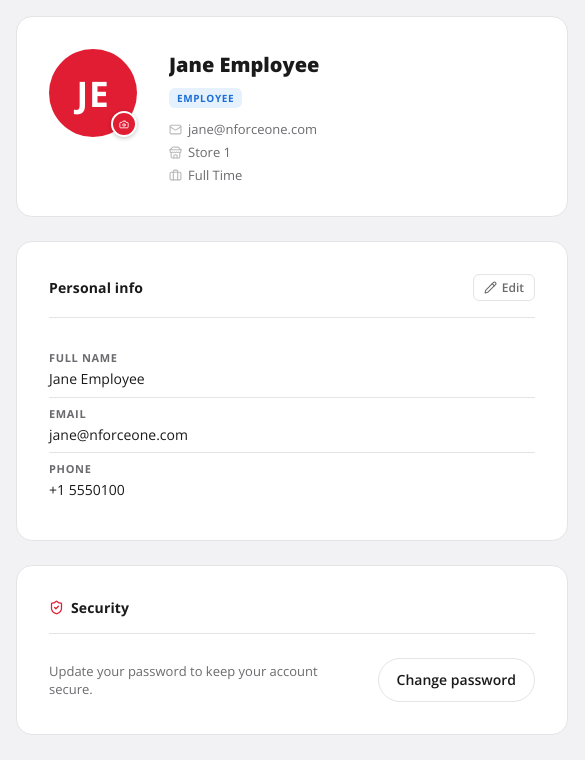
it: Profile personal info section › saves profile changes and reflects them in the overview on success
The image size is (585, 760).
expect the heading "Jane Employee" is shown: met, box [169,51,319,78]
Click the button with aria-label "edit personal info": [504, 288] box [473,274,535,301]
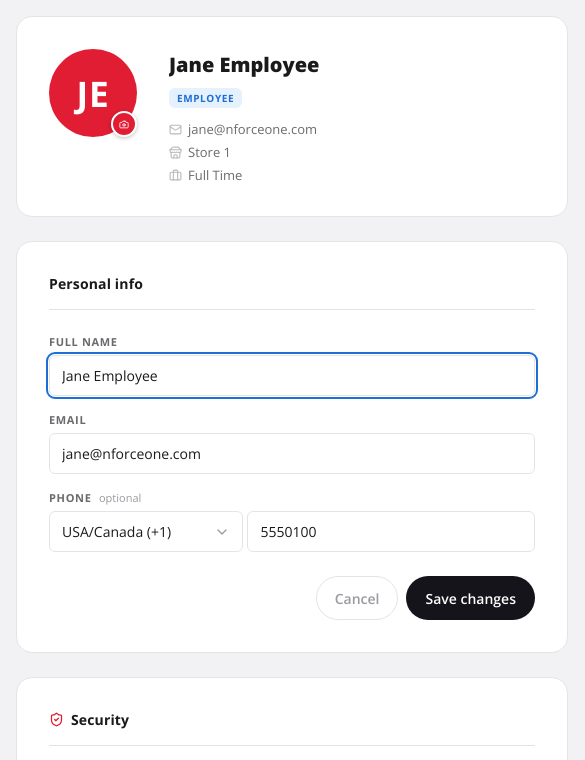
Replace the text in the field labelled "Full name" with "Jane Updated": [292, 376] box [49,355,535,396]
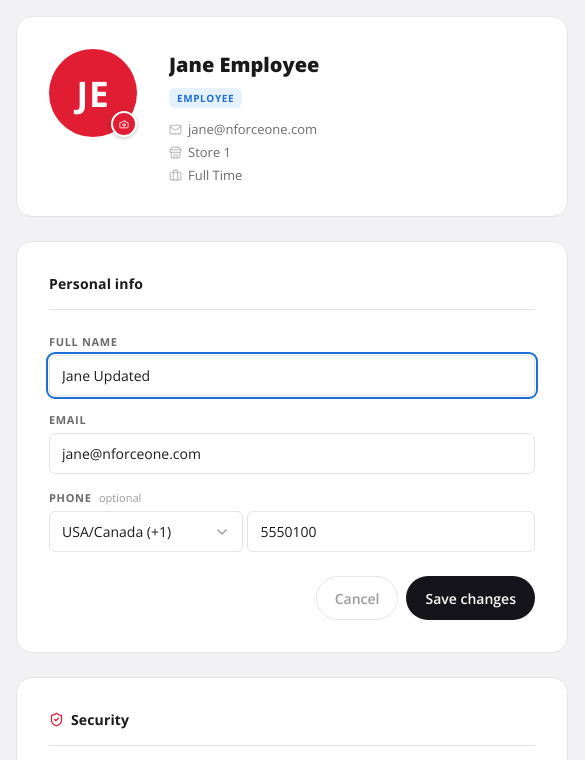
Click the button "Save changes": [471, 598] box [406,576,535,620]
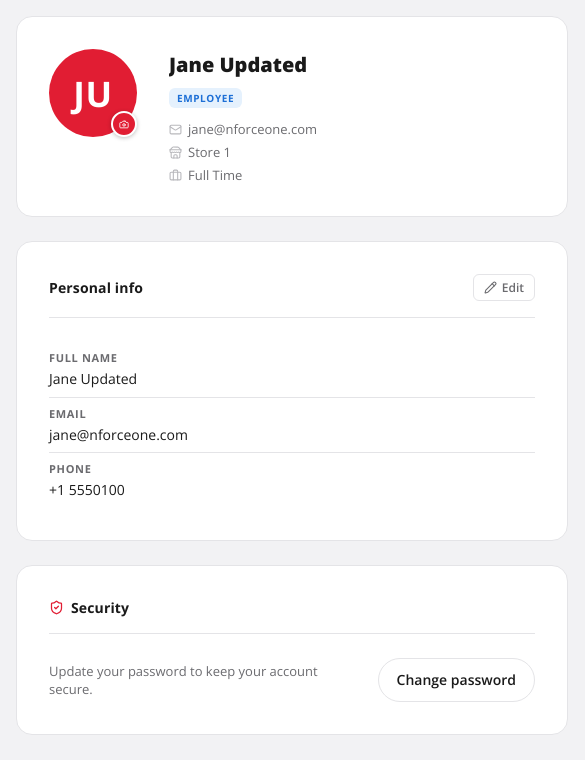
expect the heading "Jane Updated" is shown: met, box [169,51,307,78]
